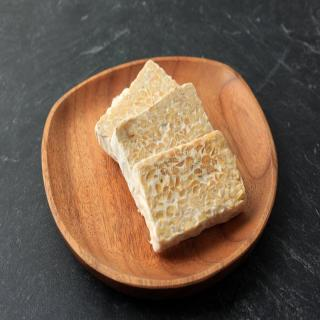Tempe: (132, 129, 248, 255), (95, 59, 181, 161)
